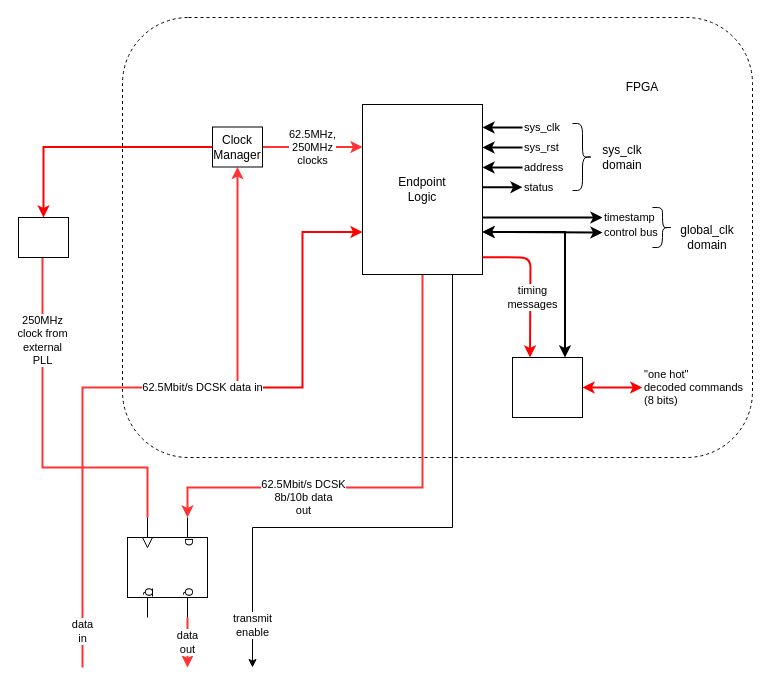
This 770x694 diagram has some shape labels left out. Here are the shapes that lost their labels. From the top down, the centre of each, then its label:
At point 43,237: "External PLL".
At point 547,387: "Command Decoder".
